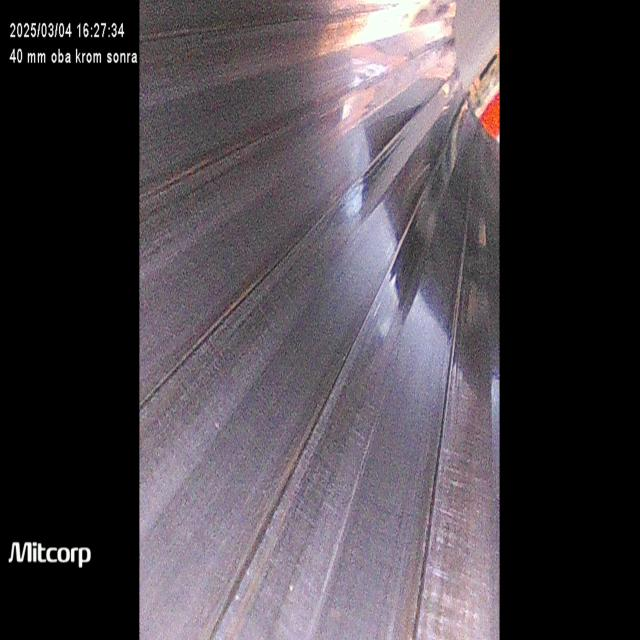hata_8.1: (419, 374, 497, 640)
